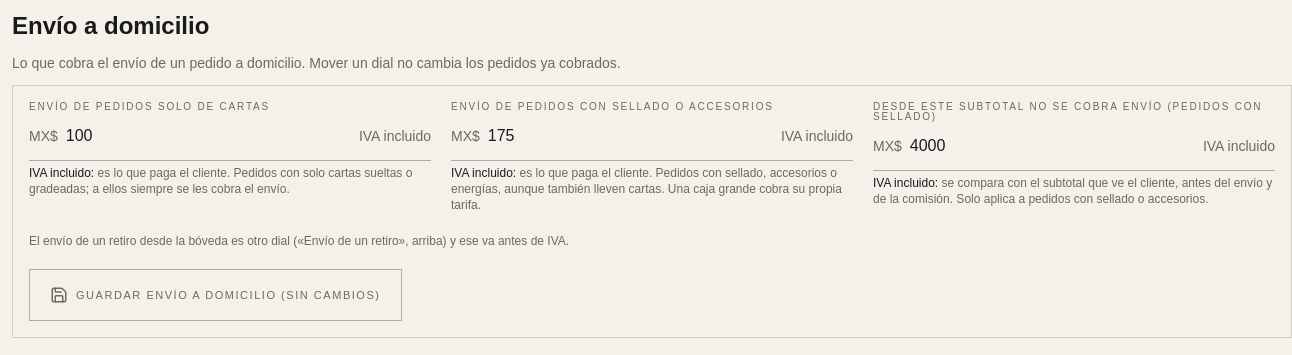
Test: §4-G.12 · diales del envío a domicilio en M10 › volver a escribir el valor guardado no cuenta como cambio (botón apagado)
Replace the text in the field labelled "Envío de pedidos solo de cartas" with "120": (208, 136) [66,124,351,148]
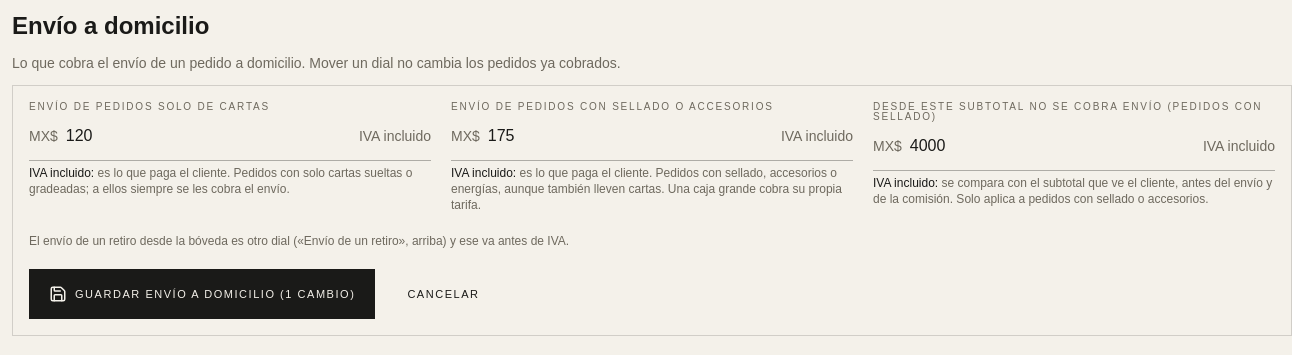
Expected: the button with test id "m10-direct-ship-save" is enabled, [29,269,375,319]
Replace the text in the field labelled "Envío de pedidos solo de cartas" with "100": (208, 136) [66,124,351,148]
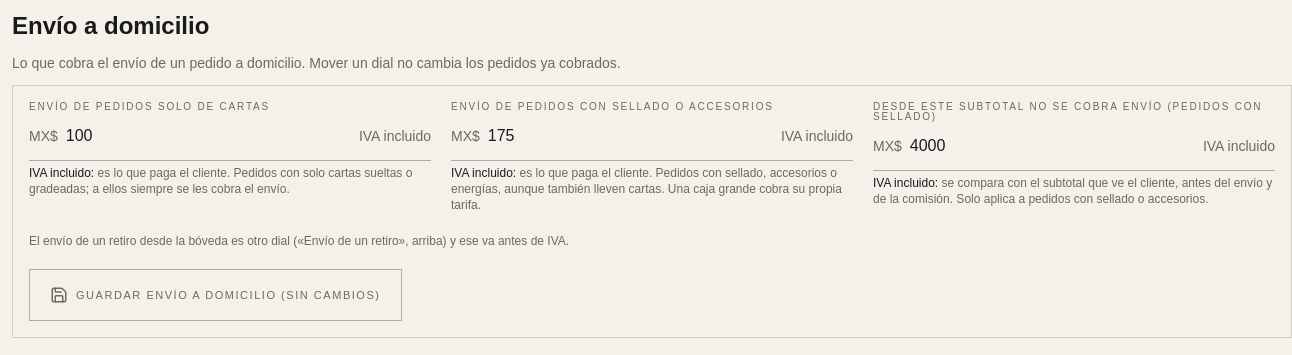
Expected: the button with test id "m10-direct-ship-save" is disabled, [29,269,402,321]
